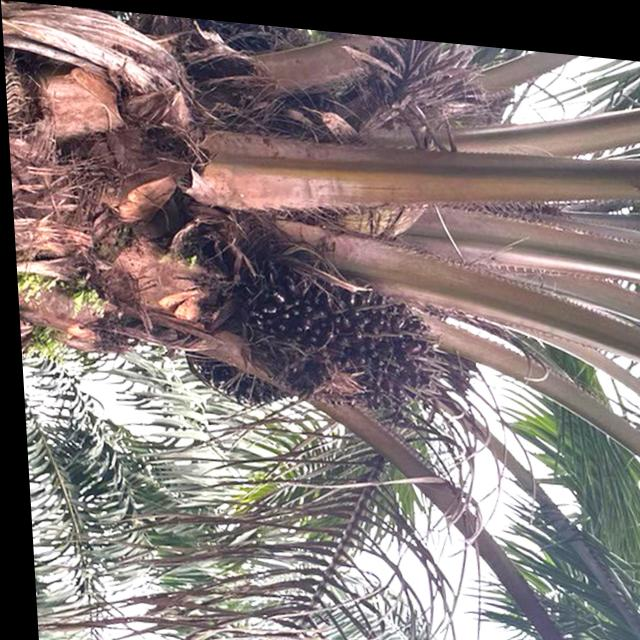ripe: (333, 258, 456, 409)
